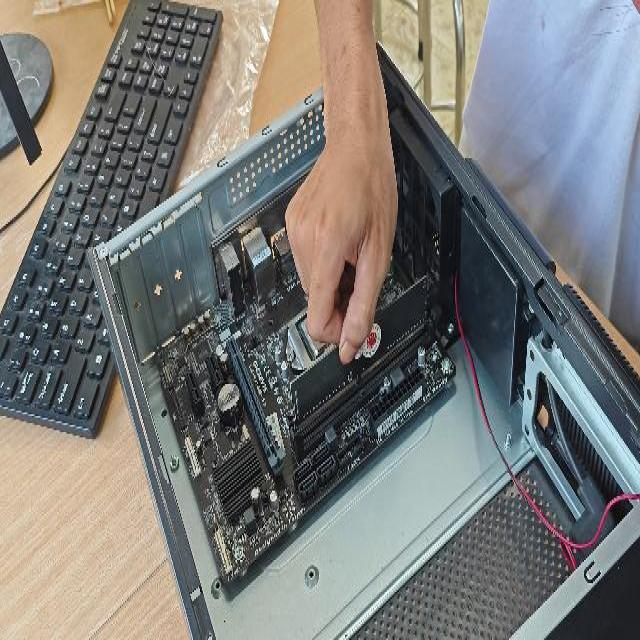Mainboard: (154, 228, 458, 586)
RAM: (290, 271, 428, 437)
